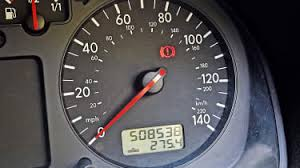Digital_Meter: (119, 122, 187, 156)
